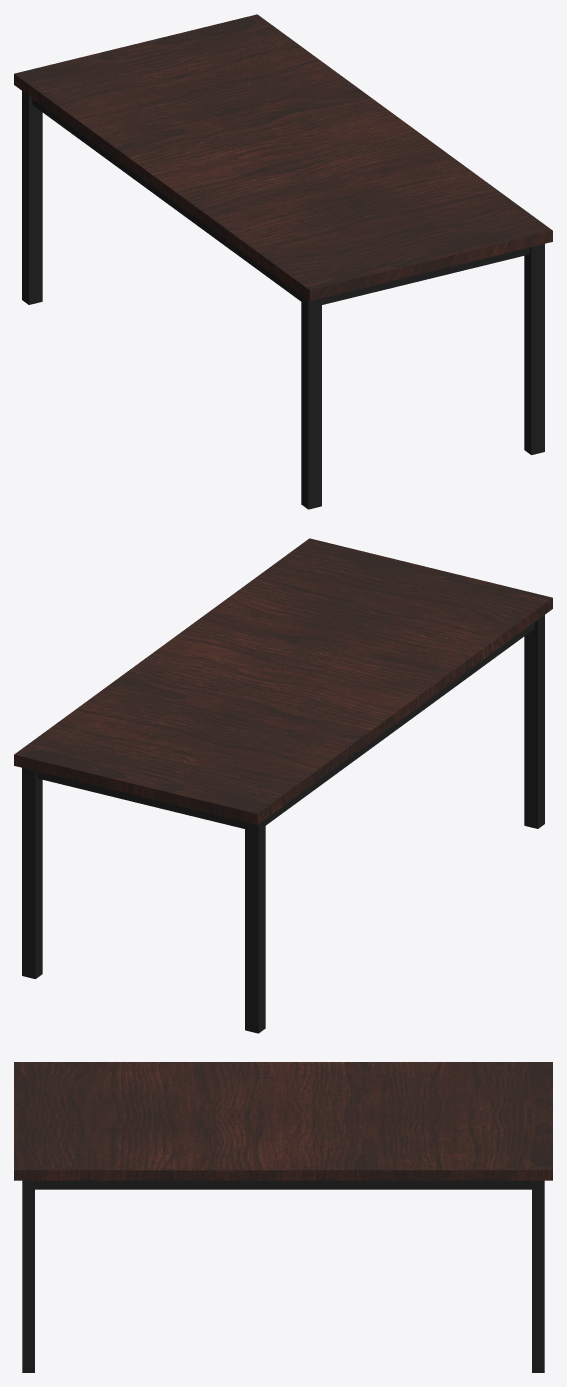
File: desk.glb
3 views of the same model, one above another, from view 1: azimuth 30°, elevation 25°; view 2: azimuth 150°, elevation 25°; view 3: azimuth 270°, elevation 25° (orthographic). The views are drawn at different scales.
Parts seen in each view (by area): view 1: Cube.002; view 2: Cube.002; view 3: Cube.002.
Part boxes in pixels (bbox=[...]): Cube.002: bbox=[14, 14, 552, 509]; Cube.002: bbox=[14, 538, 552, 1033]; Cube.002: bbox=[14, 1062, 552, 1372].
Bounding box in the file's own units: 3.89 × 3.42 × 8.18.
Materials: 2 (1 with a texture image).
